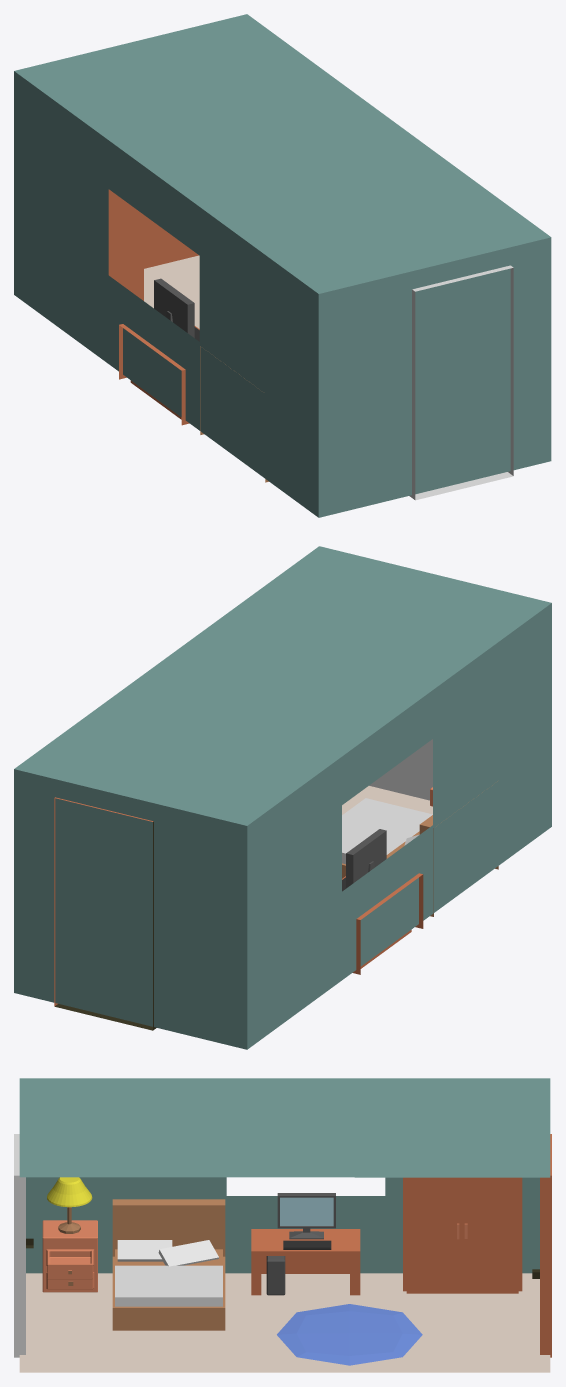
3 views of the same model, one above another, from view 1: azimuth 30°, elevation 25°; view 2: azimuth 150°, elevation 25°; view 3: azimuth 270°, elevation 25° (orthographic). The views are drawn at different scales.
Parts seen in each view (by area): view 1: Cube.012, Cube.013, Cube.014, Cube.011, Cube.008, Cube.001; view 2: Cube.012, Cube.003, Cube.014, Cube.008, Cube.011, Cube.001; view 3: Cube.012, Cube.013, Cube.003, Plane, Cube.001, Cube.005, Cube.014, Cube.008, Cube.011, Cube.016, Cube.015, Cylinder.001 (+2 smaller).
Part boxes in pixels (x1,y1,x2,y2): Cube.012: (14,14,551,517); Cube.013: (108,189,143,300); Cube.014: (409,265,513,500); Cube.011: (144,215,198,268); Cube.008: (154,278,194,337); Cube.001: (119,324,199,425); Cube.012: (14,546,551,1049); Cube.003: (342,781,498,916); Cube.014: (369,739,432,800); Cube.008: (346,829,386,888); Cube.011: (54,797,156,1030); Cube.001: (342,873,423,974); Cube.012: (19,1078,550,1372); Cube.013: (403,1177,522,1293); Cube.003: (112,1199,225,1330); Plane: (277,1304,422,1365); Cube.001: (251,1229,360,1295); Cube.005: (42,1220,97,1292); Cube.014: (14,1134,33,1357); Cube.008: (277,1193,335,1239); Cube.011: (532,1134,551,1357); Cube.016: (158,1240,218,1266); Cube.015: (117,1240,172,1261); Cylinder.001: (47,1177,92,1207).
Bounding box in the file's own units: 290 × 270 × 654.
